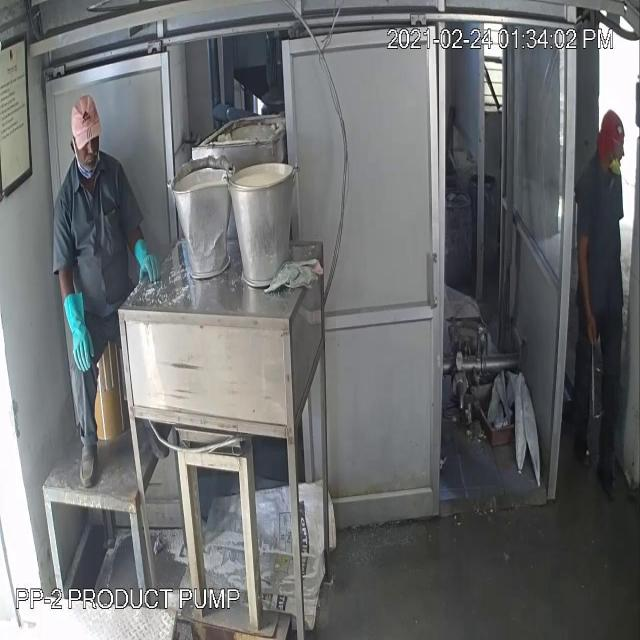no-helmet: (65, 94, 109, 158), (595, 99, 629, 153)
